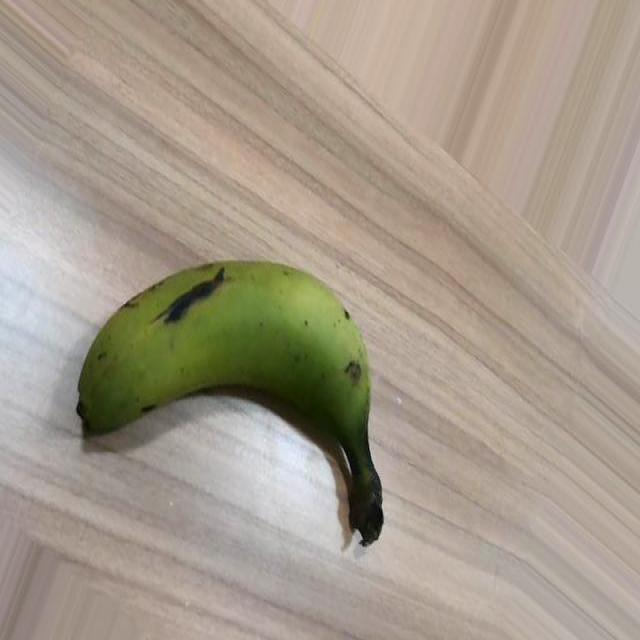Unripe: (77, 255, 385, 546)
